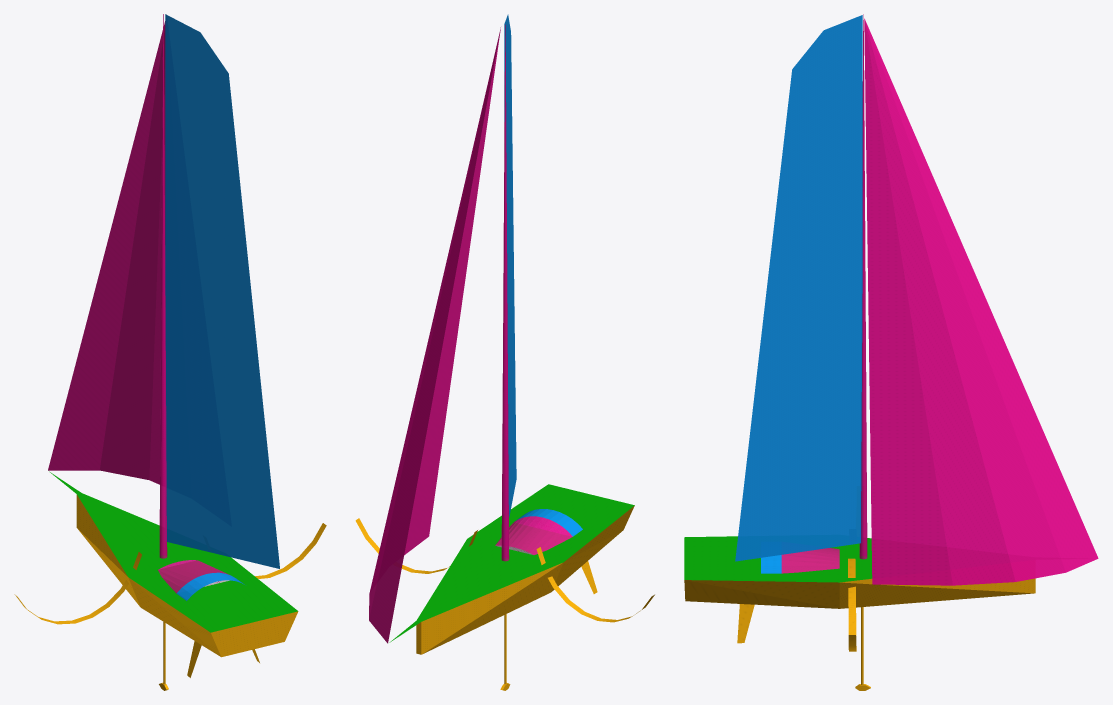
Rendered from IMOCA_GENNAKER_BABORD.dae.
3 views of the same model, side by side, from view 1: azimuth 30°, elevation 25°; view 2: azimuth 150°, elevation 25°; view 3: azimuth 270°, elevation 25° (orthographic).
Parts seen in each view (by area): view 1: SketchUp (×8); view 2: SketchUp (×8); view 3: SketchUp (×7).
Part boxes in pixels (x1,y1,x2,y2): SketchUp (×8): [14, 14, 298, 657]; SketchUp (×8): [369, 14, 654, 654]; SketchUp (×7): [684, 14, 1098, 651].
Size of the model in its own units: 71166 by 83592 by 150544.
